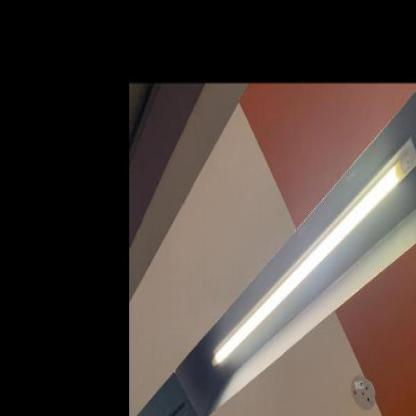light_on: (204, 128, 416, 379)
